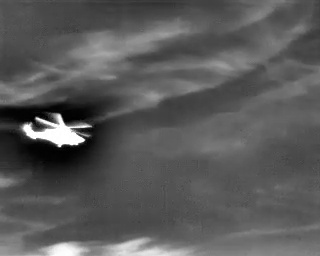HELICOPTER: (18, 107, 96, 155)
